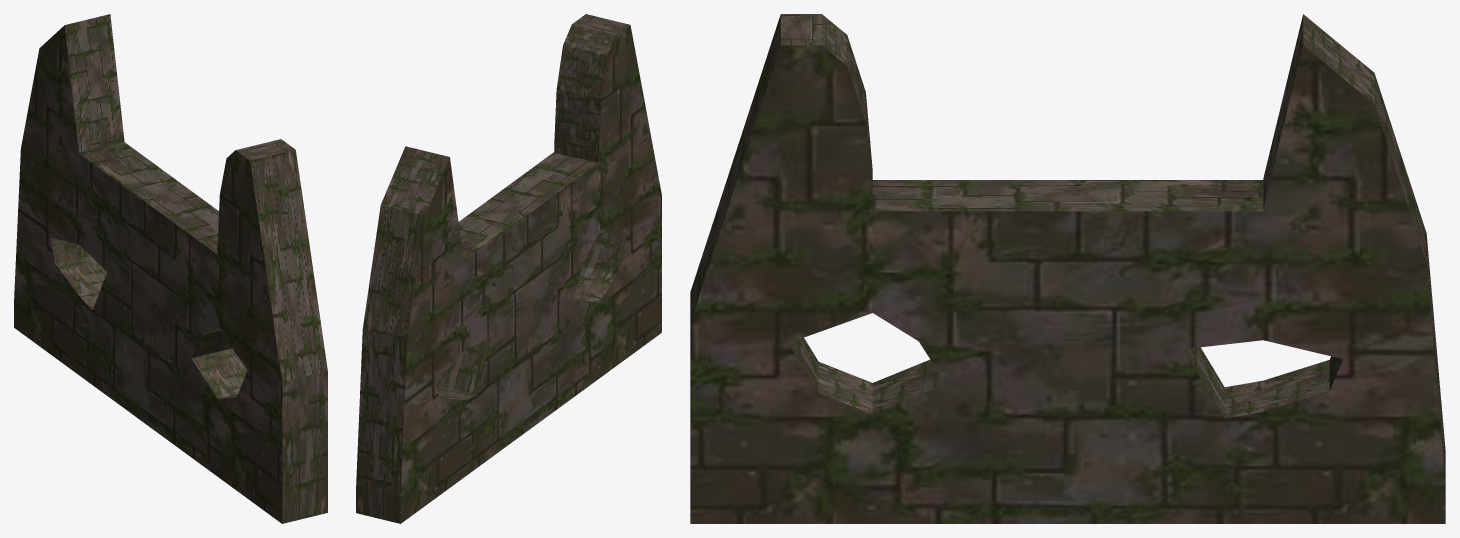
Rendered from paredequebrada2.fbx.
The picture shows the model from 3 angles, left to right: view 1: azimuth 30°, elevation 25°; view 2: azimuth 150°, elevation 25°; view 3: azimuth 270°, elevation 25°; orthographic projection. The views are drawn at different scales.
Visible parts, largest first — view 1: Cube.001; view 2: Cube.001; view 3: Cube.001.
Boxes of the visible parts, box(x1,y1,x2,y2) form: Cube.001: box(14, 14, 327, 523); Cube.001: box(356, 14, 661, 523); Cube.001: box(690, 14, 1445, 523).
Bounding box in the file's own units: 69.01 × 490 × 701.
1 material, 1 textured.
